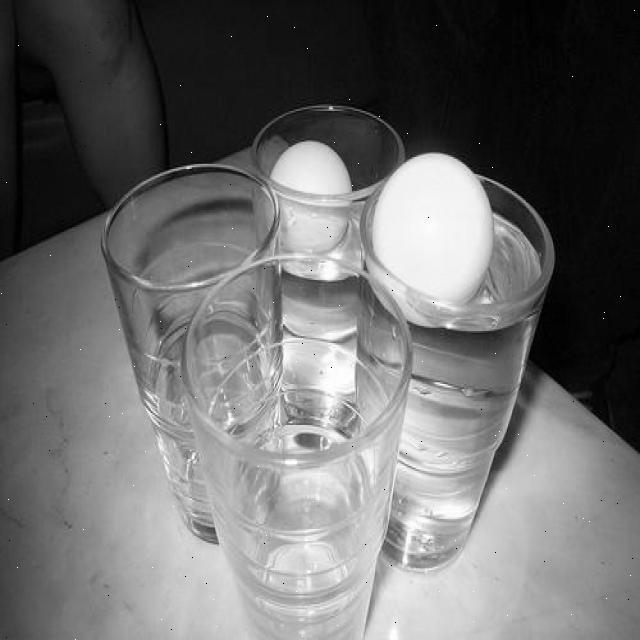ping-pong-ball: (370, 150, 496, 312), (263, 137, 354, 256)
